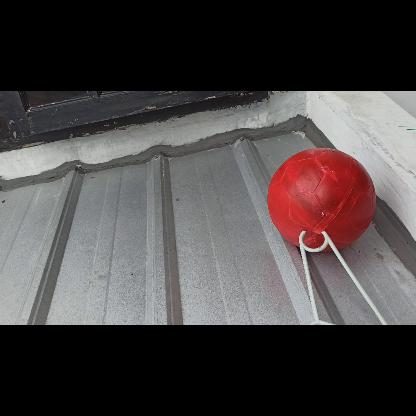red_ball: (266, 144, 374, 252)
